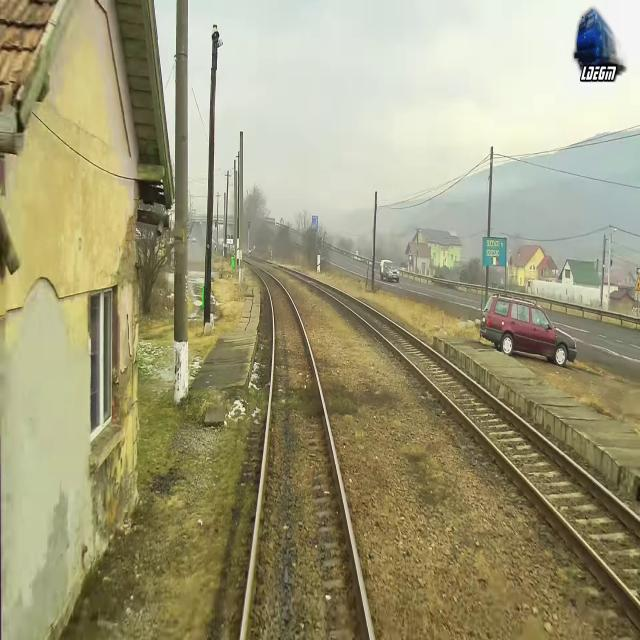rail-track: (288, 270, 640, 597), (245, 262, 370, 639)
